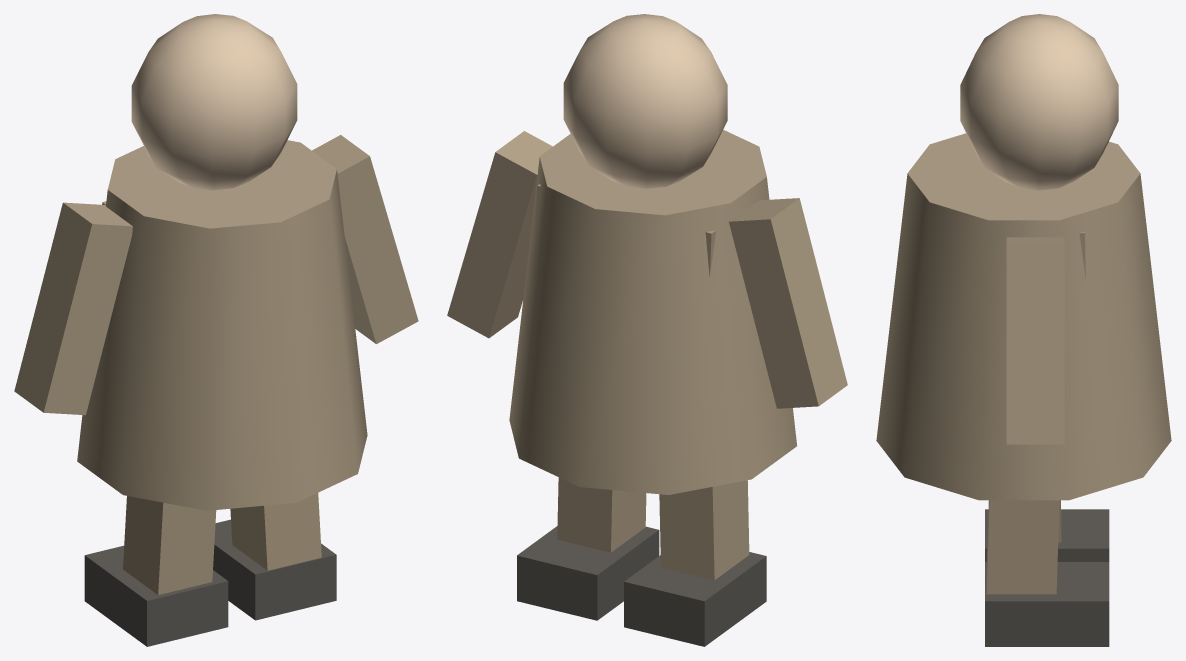
Rendered from npc_caravan_guard.glb.
3 views of the same model, side by side, from view 1: azimuth 30°, elevation 25°; view 2: azimuth 150°, elevation 25°; view 3: azimuth 270°, elevation 25° (orthographic).
Parts seen in each view (by area): view 1: torso, head, left_arm, right_arm, left_boot, left_leg, right_boot, right_leg; view 2: torso, head, left_arm, right_arm, left_boot, right_boot, left_leg, right_leg; view 3: torso, head, right_arm, right_boot, right_leg, left_boot.
Boxes of the visible parts, bbox=[...] form: torso: bbox=[77, 140, 367, 510]; head: bbox=[131, 14, 297, 190]; left_arm: bbox=[14, 202, 132, 415]; right_arm: bbox=[312, 135, 418, 343]; left_boot: bbox=[84, 545, 228, 646]; left_leg: bbox=[123, 496, 216, 594]; right_boot: bbox=[213, 519, 336, 620]; right_leg: bbox=[230, 493, 321, 570]; torso: bbox=[509, 129, 796, 494]; head: bbox=[563, 14, 727, 188]; left_arm: bbox=[729, 198, 847, 408]; right_arm: bbox=[447, 131, 552, 338]; left_boot: bbox=[624, 552, 766, 646]; right_boot: bbox=[517, 526, 659, 620]; left_leg: bbox=[659, 480, 749, 580]; right_leg: bbox=[557, 477, 646, 552]; torso: bbox=[876, 133, 1171, 500]; head: bbox=[960, 14, 1118, 190]; right_arm: bbox=[1006, 237, 1064, 444]; right_boot: bbox=[985, 562, 1109, 646]; right_leg: bbox=[986, 500, 1059, 594]; left_boot: bbox=[985, 509, 1109, 561].
Bounding box in the file's own units: 1.11 × 1.65 × 0.76.
